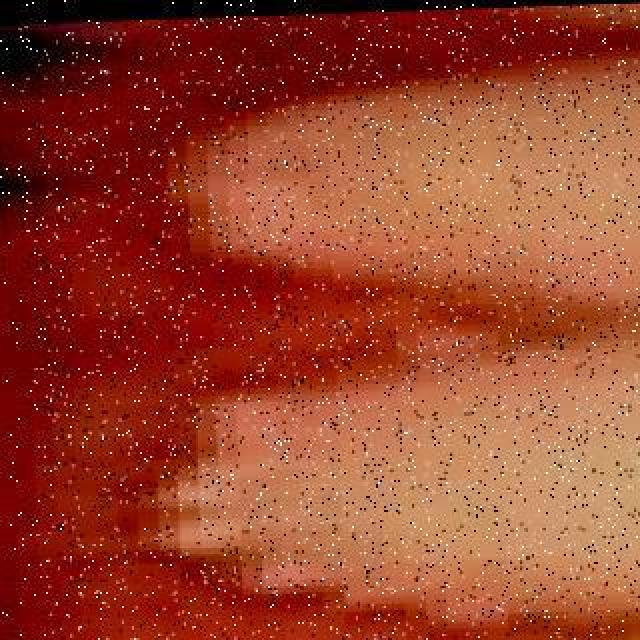plaque: (148, 280, 498, 640)
